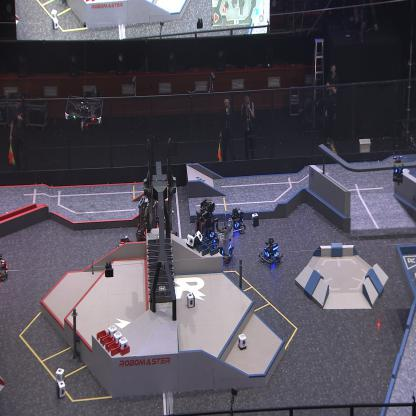car: (135, 194, 162, 245), (192, 198, 216, 247), (212, 223, 235, 265), (156, 206, 178, 242), (259, 236, 282, 268), (116, 233, 135, 262), (227, 206, 245, 236), (0, 249, 9, 283)
